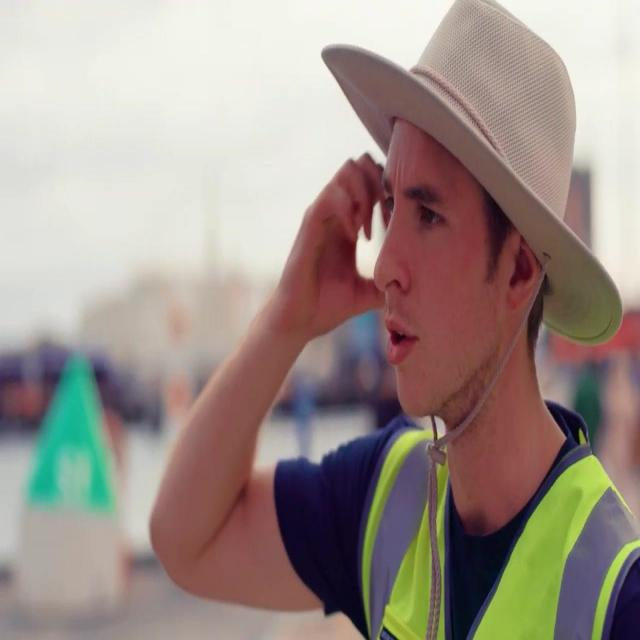Reflective-Jacket: (354, 406, 640, 640)
